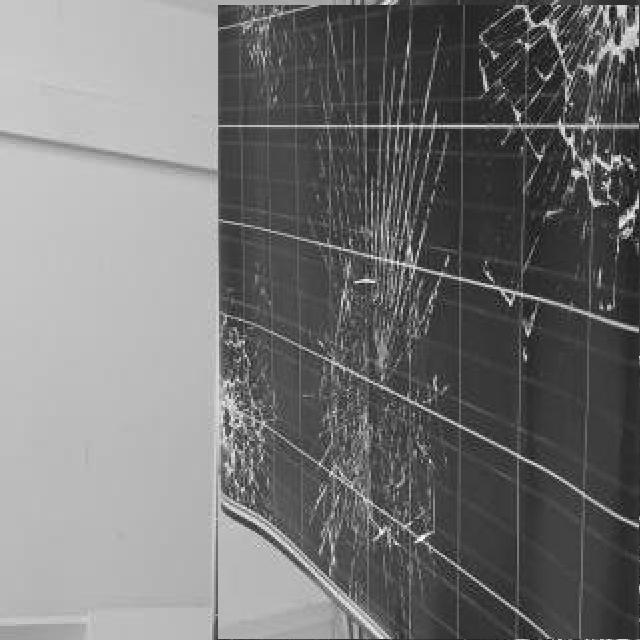Dusty: (219, 6, 639, 639)
Physical-damage: (318, 76, 476, 542), (494, 287, 640, 639), (220, 143, 288, 355), (232, 530, 328, 640)
